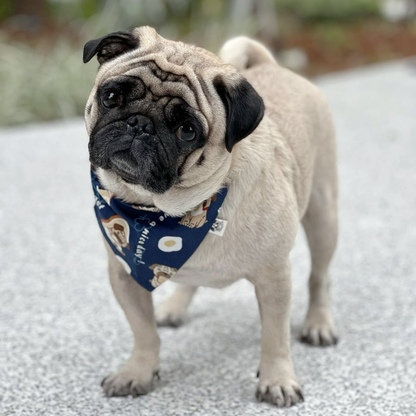Pug: (79, 23, 344, 410)
